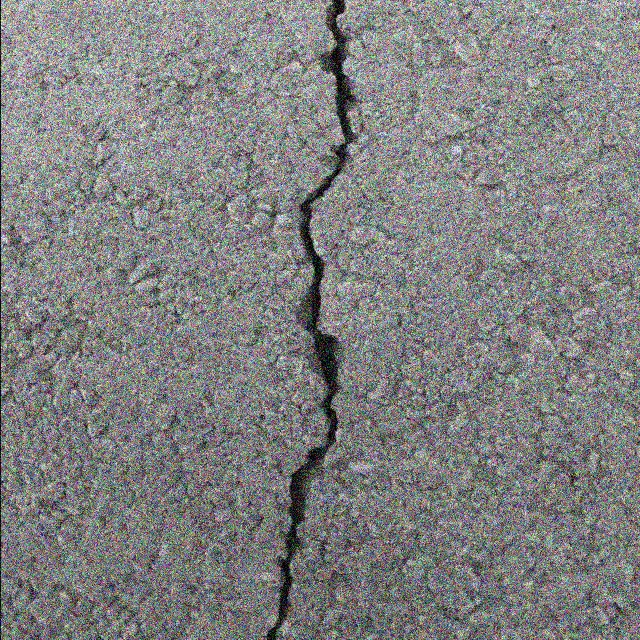SurfaceCrack: (215, 0, 394, 640)
